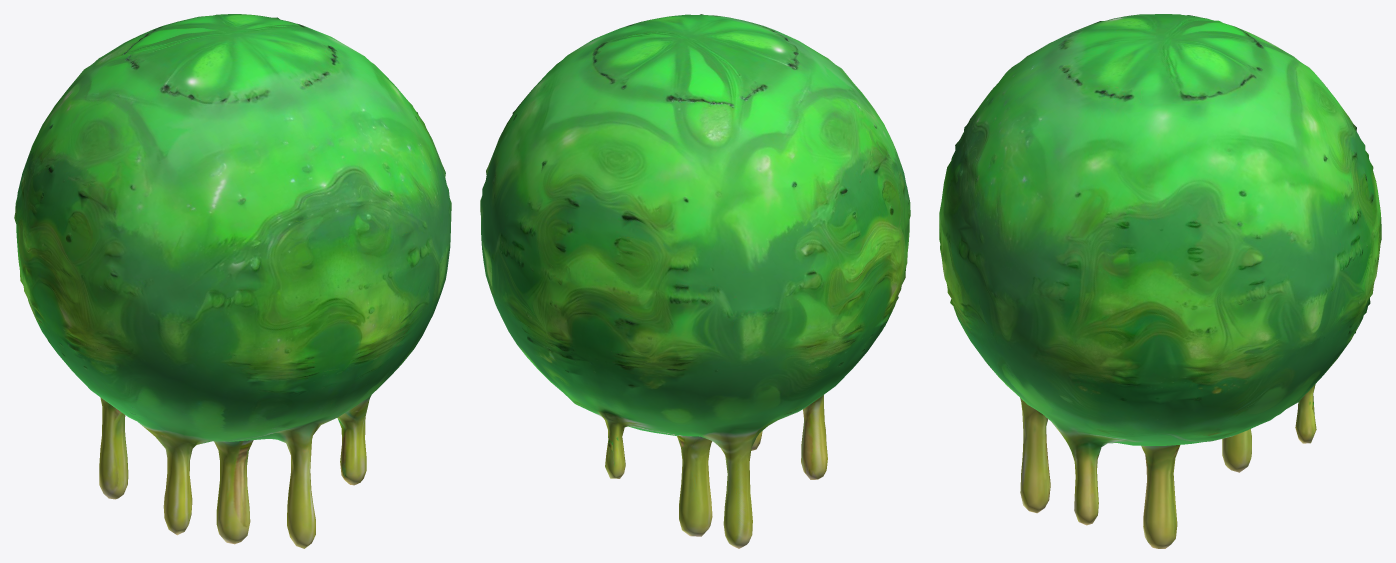
Rendered from poison_medium_quality.glb.
3 renders of one model, left to right at view 1: azimuth 30°, elevation 25°; view 2: azimuth 150°, elevation 25°; view 3: azimuth 270°, elevation 25°, orthographic. The views are drawn at different scales.
Parts seen in each view (by area): view 1: Mesh1.0; view 2: Mesh1.0; view 3: Mesh1.0.
Boxes of the visible parts, box(x1,y1,x2,y2) form: Mesh1.0: box(14, 14, 451, 548); Mesh1.0: box(480, 14, 910, 548); Mesh1.0: box(939, 14, 1381, 548).
Bounding box in the file's own units: 1.5 × 1.91 × 1.5.
1 material, 1 textured.
